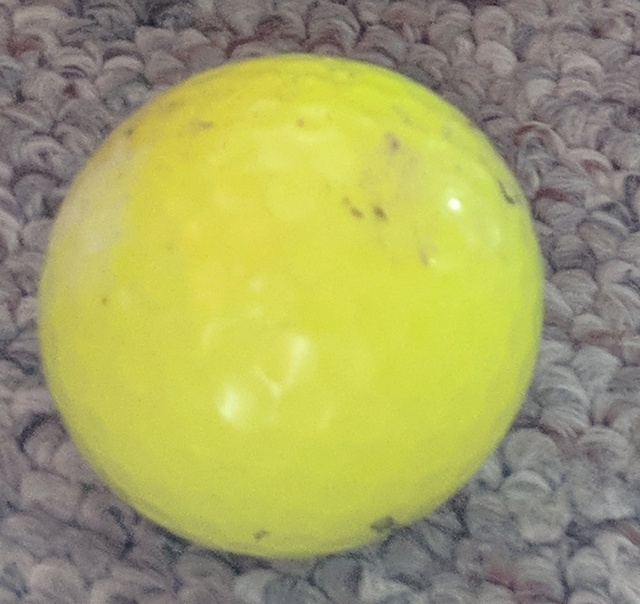ball: (35, 50, 546, 562)
